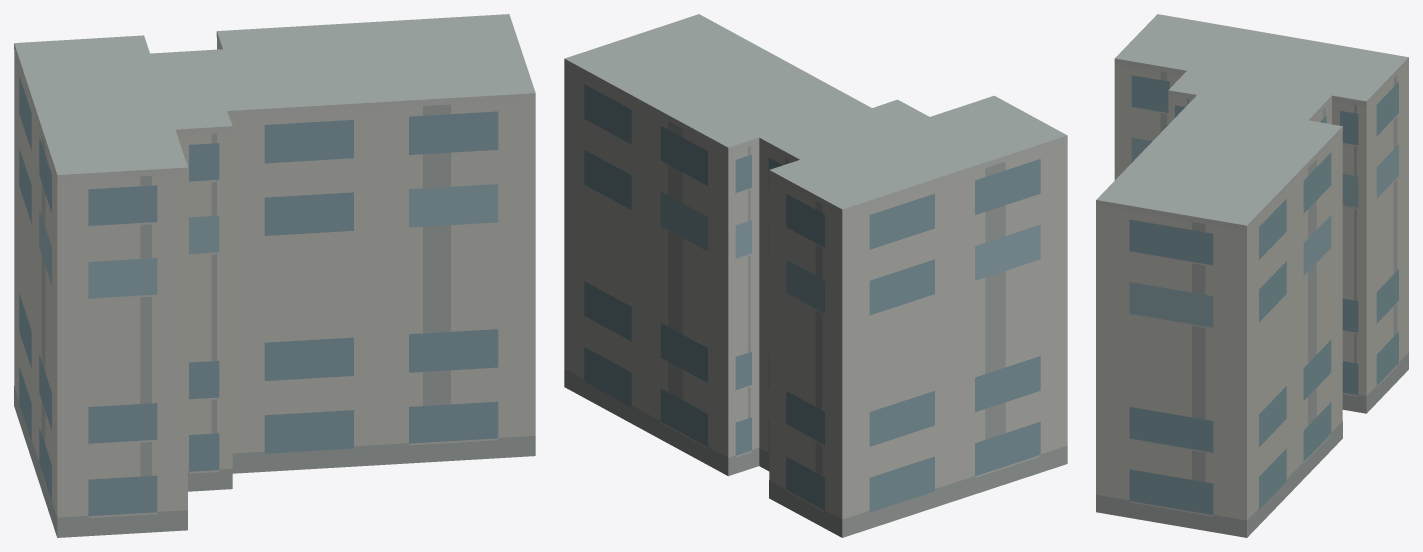
Rendered from survey-upis-32918798.glb.
The picture shows the model from 3 angles, left to right: view 1: azimuth 30°, elevation 25°; view 2: azimuth 150°, elevation 25°; view 3: azimuth 270°, elevation 25°; orthographic projection. The views are drawn at different scales.
Parts seen in each view (by area): view 1: survey-upis-32918798.tmp; view 2: survey-upis-32918798.tmp; view 3: survey-upis-32918798.tmp.
Part boxes in pixels (x1,y1,x2,y2): survey-upis-32918798.tmp: (14, 14, 535, 537); survey-upis-32918798.tmp: (564, 14, 1067, 537); survey-upis-32918798.tmp: (1096, 14, 1408, 537).
Bounding box in the file's own units: 20.22 × 13.9 × 12.63.
